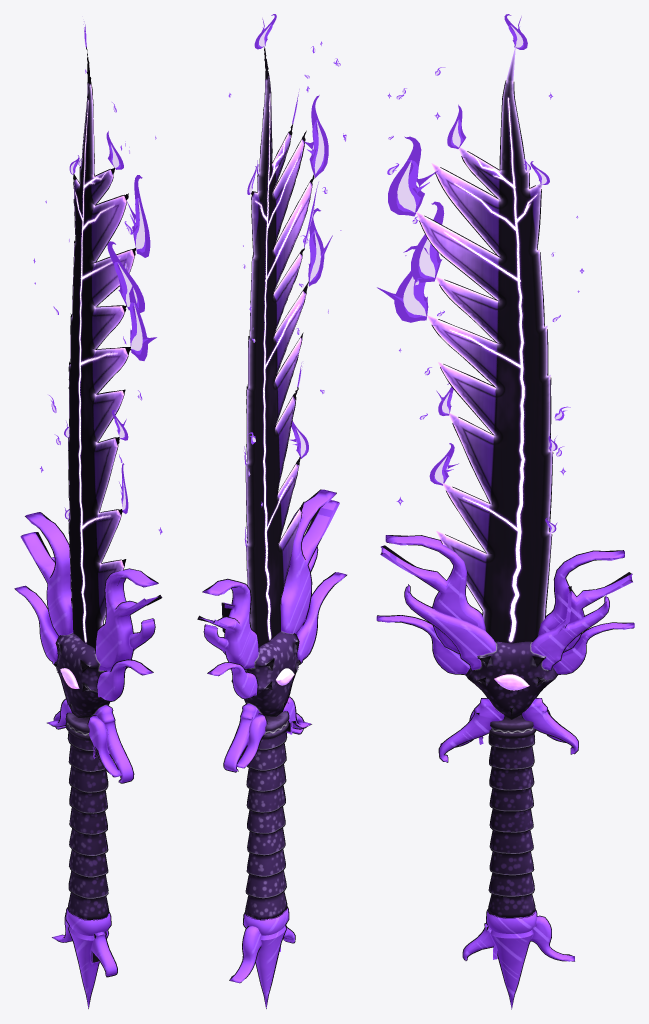
The model's file is void_dagger.glb.
The picture shows the model from 3 angles, left to right: view 1: azimuth 30°, elevation 25°; view 2: azimuth 150°, elevation 25°; view 3: azimuth 270°, elevation 25°; orthographic projection.
Visible parts, largest first — view 1: Dagger_Hilt, Dagger_Blade, Dagger_InkOutline, FX_ShadowFlame_F0; view 2: Dagger_Hilt, Dagger_Blade, Dagger_InkOutline, FX_ShadowFlame_F0; view 3: Dagger_Blade, Dagger_Hilt, FX_ShadowFlame_F0, Dagger_InkOutline.
Part boxes in pixels (x1,y1,x2,y2): Dagger_Hilt: [15, 512, 161, 1007]; Dagger_Blade: [68, 83, 134, 648]; Dagger_InkOutline: [14, 47, 162, 1008]; FX_ShadowFlame_F0: [33, 21, 162, 534]; Dagger_Hilt: [199, 489, 346, 1007]; Dagger_Blade: [246, 76, 312, 647]; Dagger_InkOutline: [197, 47, 346, 1008]; FX_ShadowFlame_F0: [228, 14, 346, 546]; Dagger_Blade: [416, 47, 552, 643]; Dagger_Hilt: [376, 535, 634, 1008]; FX_ShadowFlame_F0: [377, 14, 583, 532]; Dagger_InkOutline: [377, 80, 633, 1009].
Size of what is drawn, in the model's own units: 0.0224 by 0.496 by 0.1168.
Materials: 6 (2 with a texture image).
